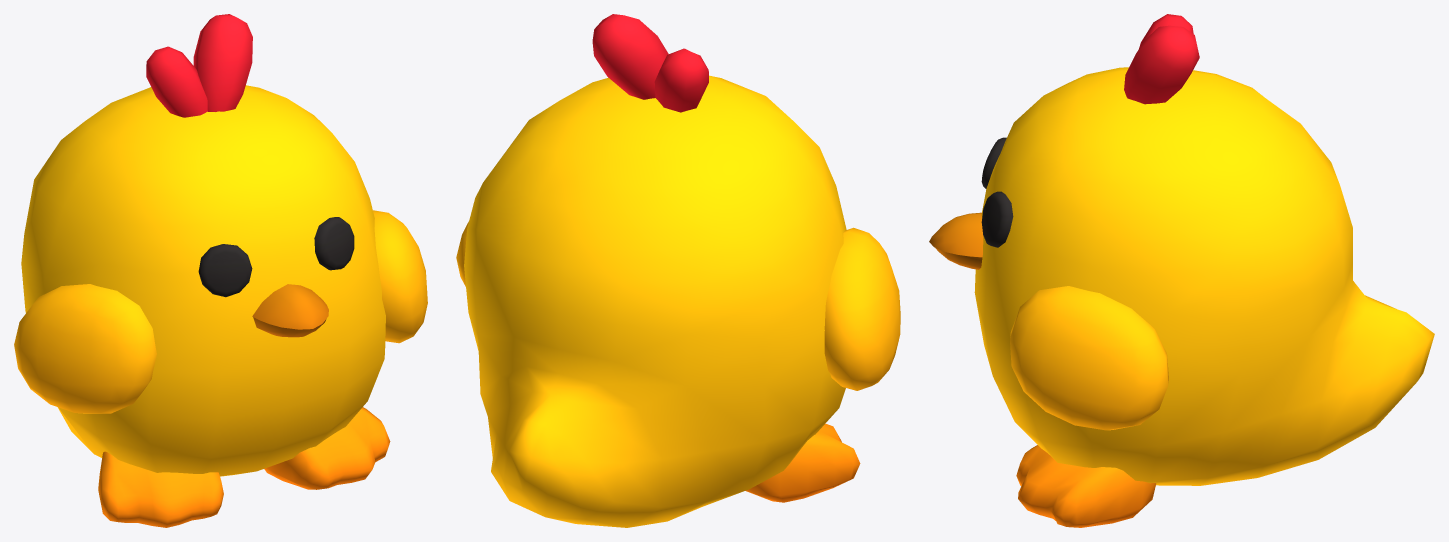
File: Chick_01.glb
3 views of the same model, side by side, from view 1: azimuth 30°, elevation 25°; view 2: azimuth 150°, elevation 25°; view 3: azimuth 270°, elevation 25° (orthographic). The views are drawn at different scales.
Visible parts, largest first — view 1: Chick_01; view 2: Chick_01; view 3: Chick_01.
Part boxes in pixels (box(x1,y1,x2,y2)): Chick_01: box(14, 14, 427, 527); Chick_01: box(456, 14, 900, 527); Chick_01: box(929, 14, 1434, 527).
Size of the model in its own units: 0.4035 by 0.433 by 0.4358.
2 materials, 2 textured.
